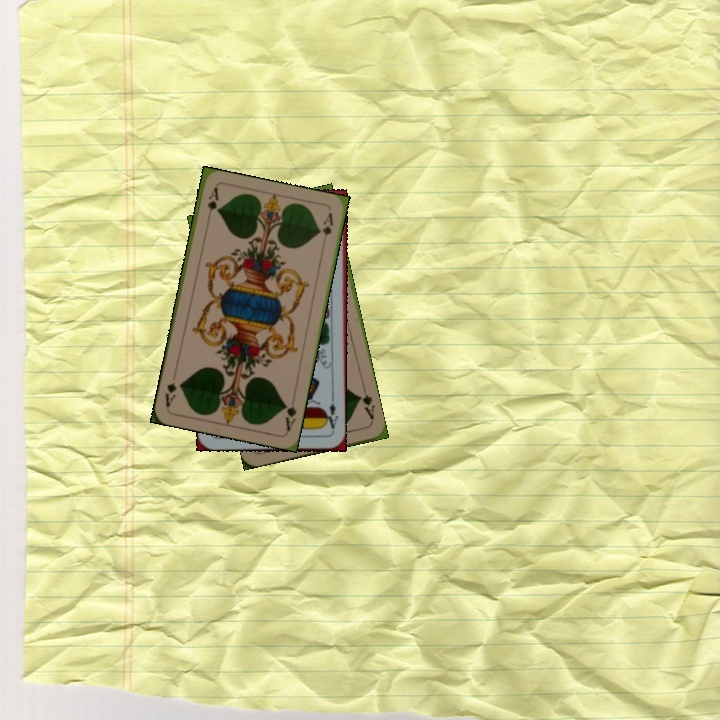EA: (321, 394, 341, 434)
GA: (355, 385, 377, 425), (280, 393, 299, 434), (203, 184, 221, 224)
